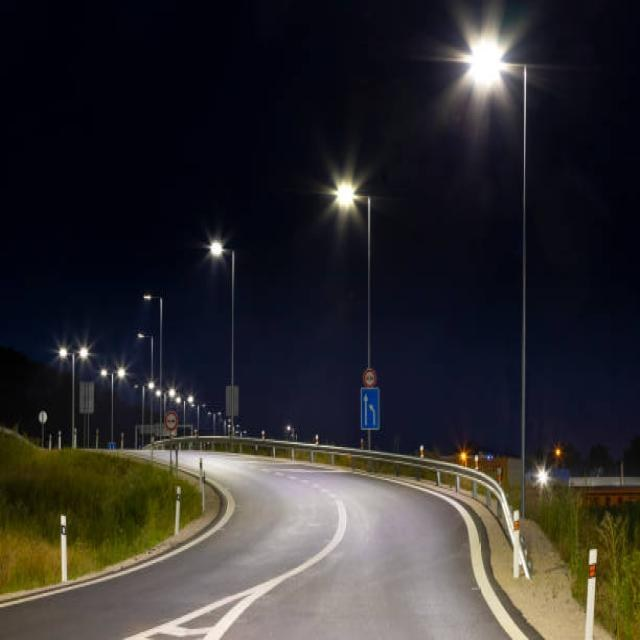acesa: (430, 11, 534, 96), (326, 172, 366, 212), (201, 229, 230, 261), (534, 458, 557, 488), (108, 361, 132, 385), (53, 340, 73, 364)
